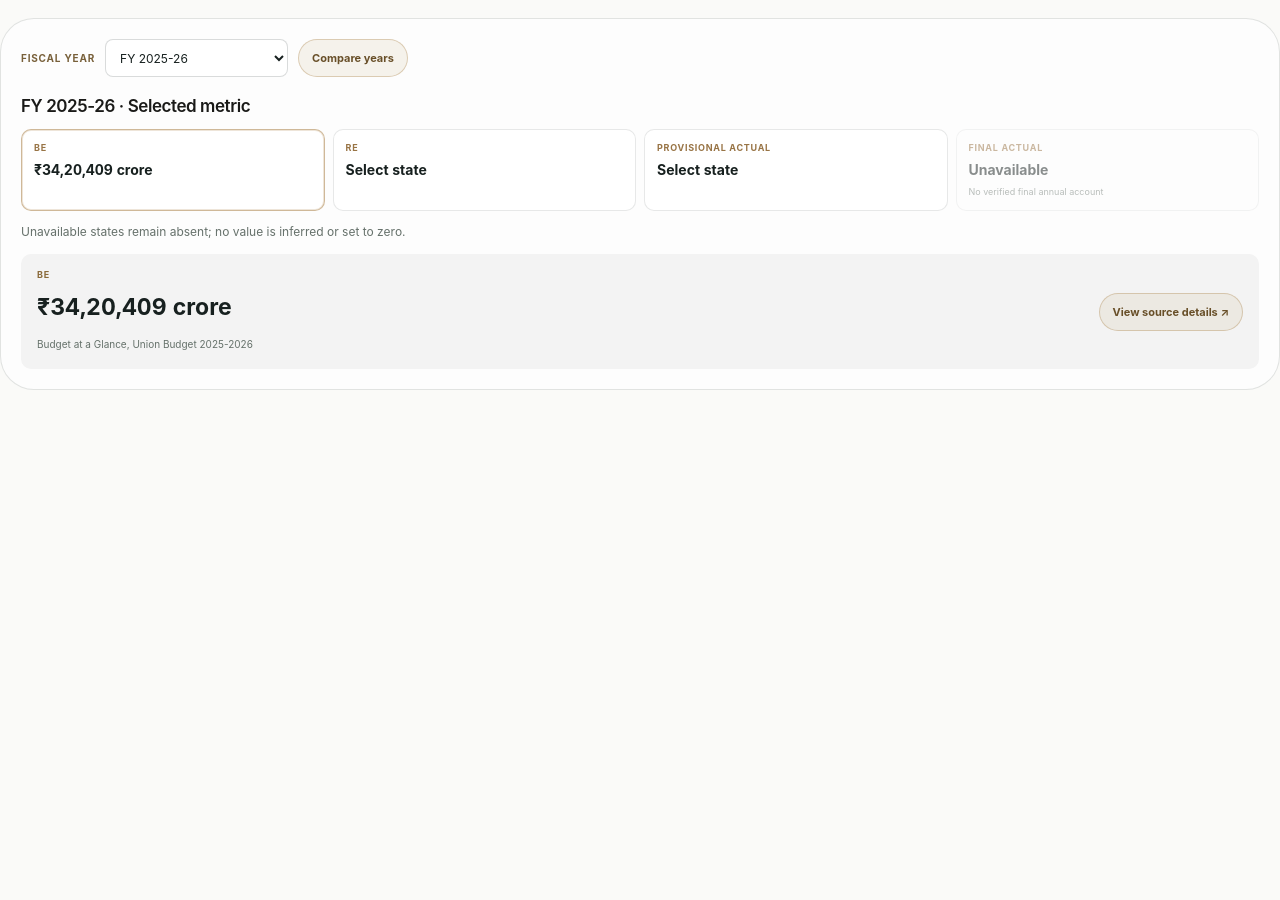
Historical fiscal comparison panel › keeps current YTD outside historical annual comparison choices
The width and height of the screenshot is (1280, 900).
Check: the heading "FY 2025-26 · Selected metric" is shown, box [21,96,250,116]
Click the button "Compare years": [353, 58] box [298,39,408,77]
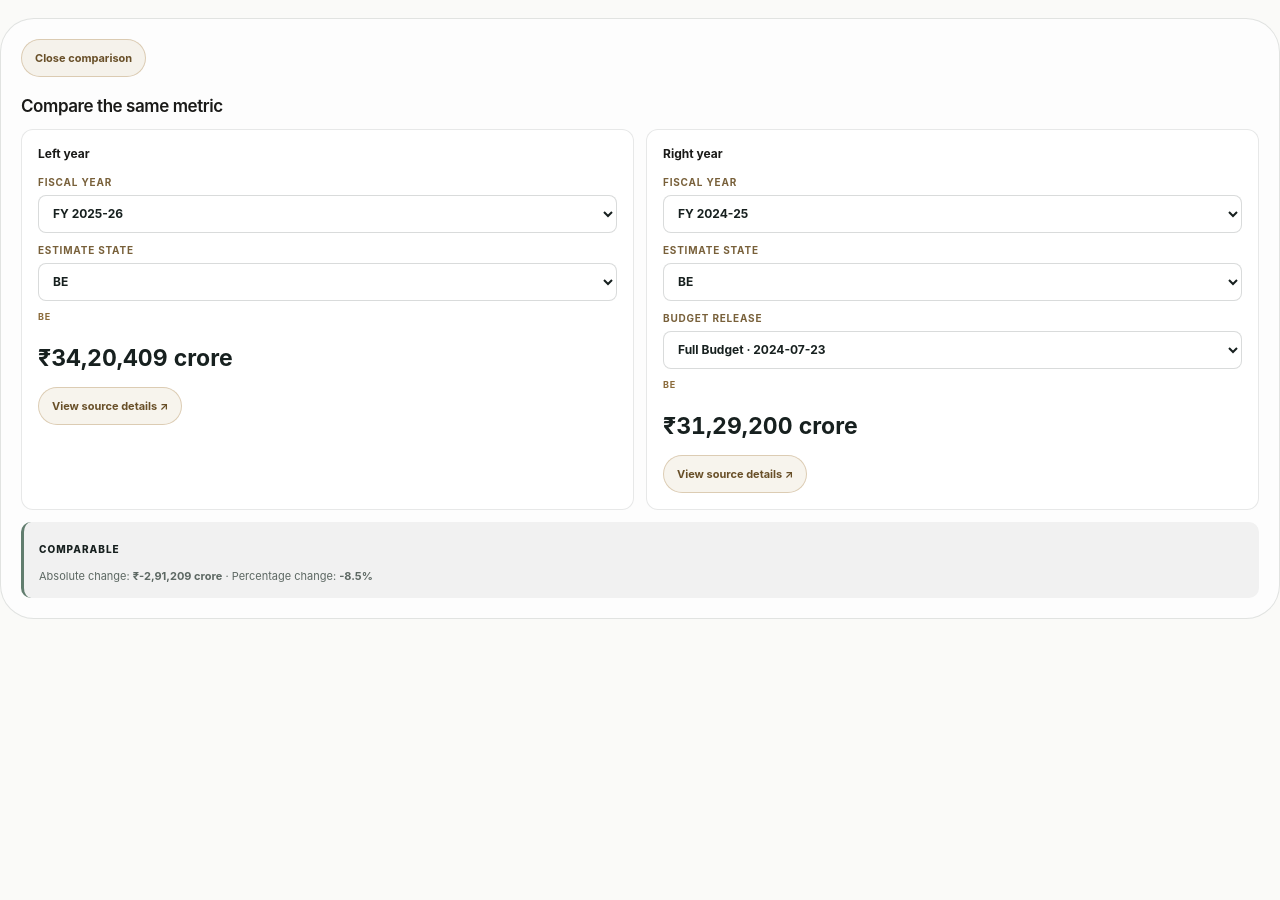
Check: the text "Comparable" is shown, box [39,543,120,555]
Check: the number of dropdowns labelled "Fiscal year" is 2, box [38,195,617,233]; [663,195,1242,233]
